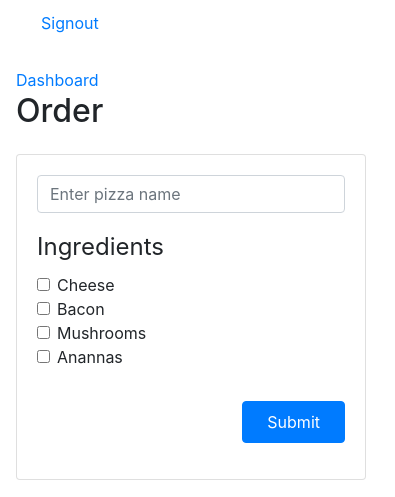
Test case: Order page › Navigates to dashboard after Order was placed
This screenshot has width=395, height=497.
Type "Cypress pizza" into the field with class "action-name". click: (191, 194)
box: top-left (37, 175), bottom-right (345, 213)
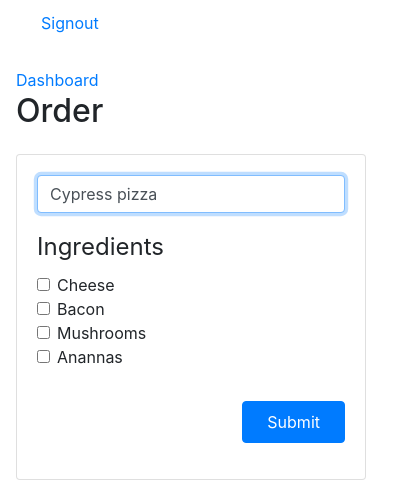
Click the checkbox named "ananas". click: (44, 357)
box: top-left (37, 350), bottom-right (50, 363)
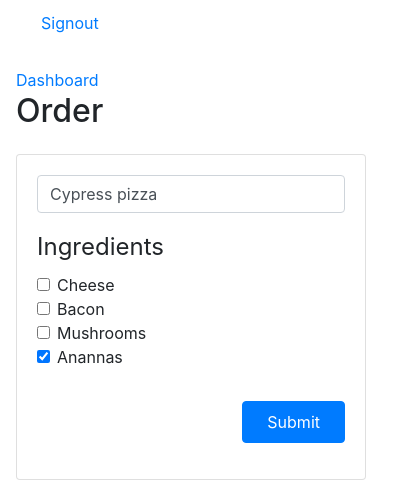
Click the button with class "action-submit". click: (294, 422)
box: top-left (242, 401), bottom-right (345, 443)
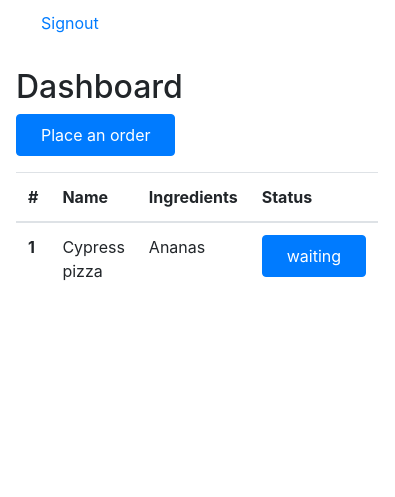
Now the text "Cypress pizza" is shown, box top-left (50, 222), bottom-right (137, 295)
